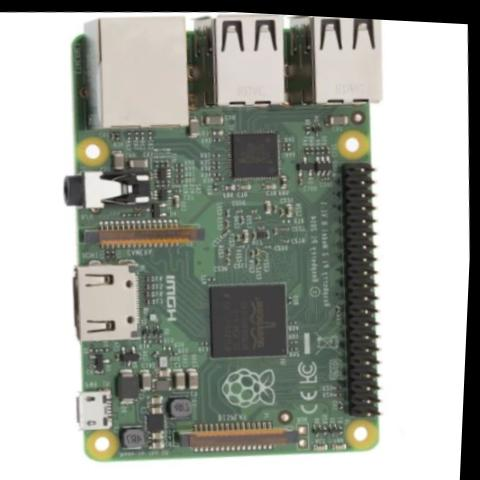Raspberry-Pi-2-Model-B: (39, 2, 413, 480)
